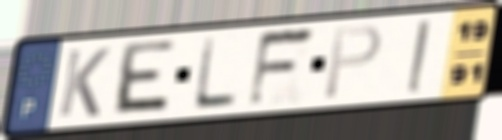E: (108, 38, 179, 117)
F: (244, 24, 319, 111)
I: (404, 17, 433, 96)
K: (55, 46, 113, 120)
L: (190, 35, 241, 112)
P: (320, 22, 385, 102)
